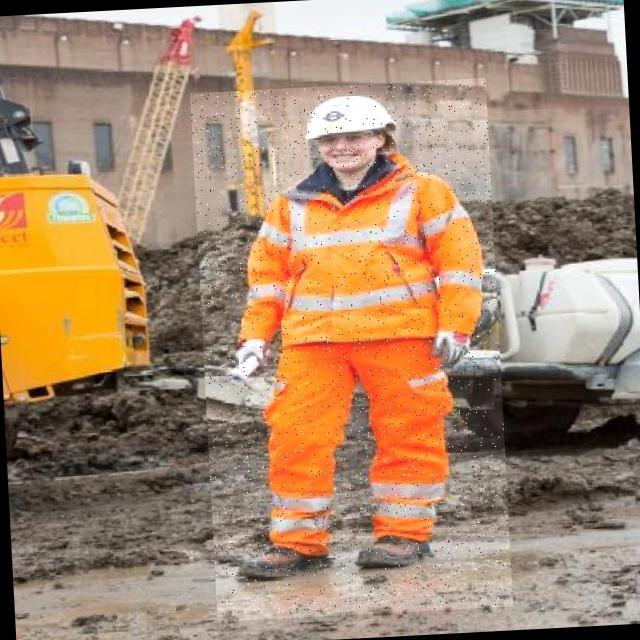Gloves: (432, 331, 477, 374), (235, 339, 271, 382)
Helmet: (302, 95, 397, 146)
Human: (190, 79, 513, 624)
Safety Boot: (237, 545, 333, 587), (353, 534, 435, 577)
Safety Vest: (230, 151, 488, 355)
